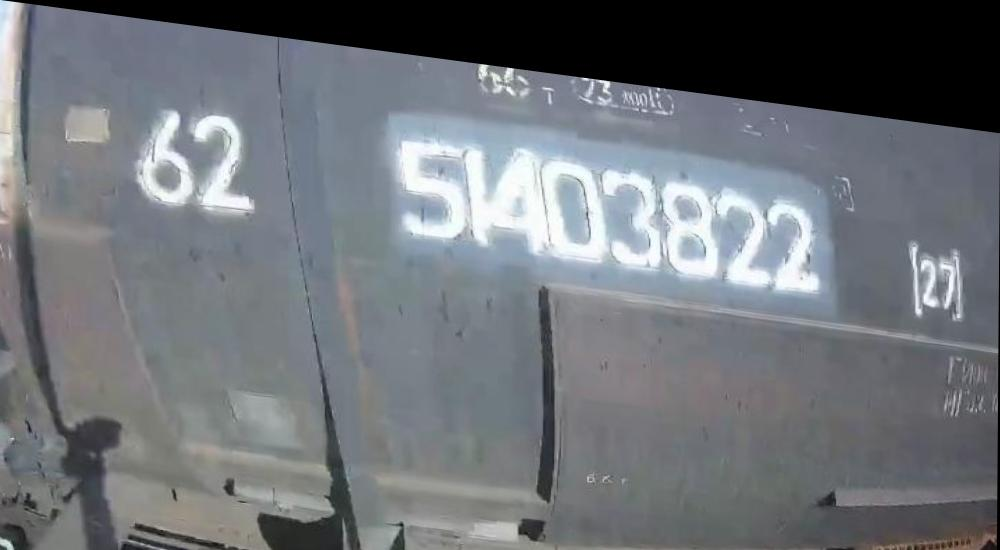Wagon-number: (391, 114, 830, 288)
